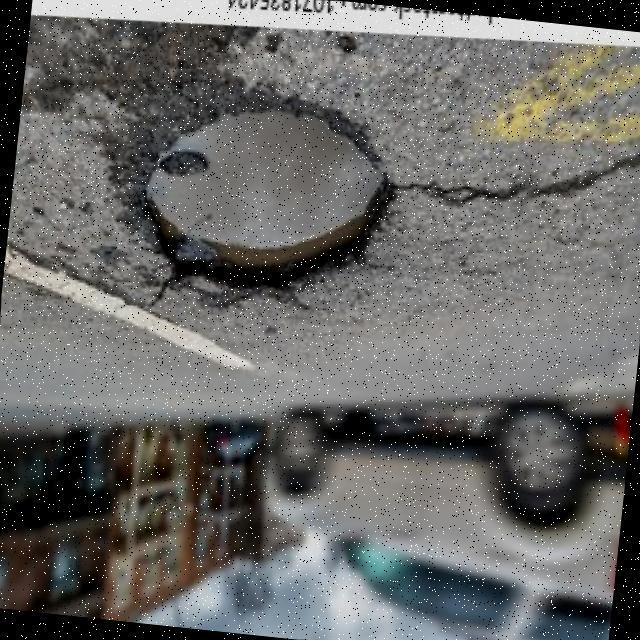Pothole: (143, 105, 389, 274)
